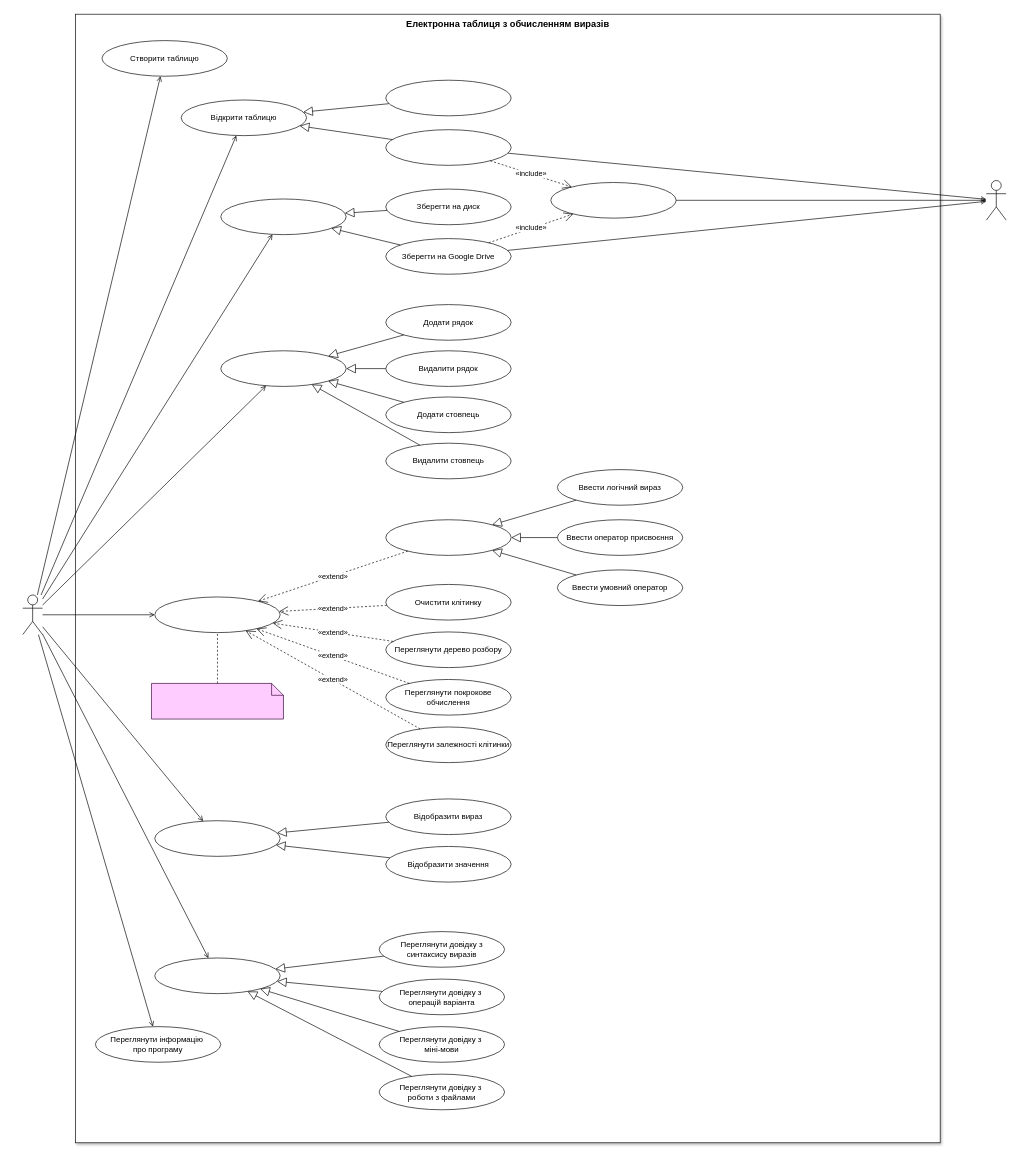
Image size: 1030x1159. Some labels were removed from this diagram. Each missing label, with the centre of its shape:
Google Drive: (x=996, y=200)
Авторизуватися в Google Drive: (x=613, y=200)
Ввести вміст клітинки: (x=448, y=537)
Відкрити з Google Drive: (x=448, y=147)
Відкрити з диска: (x=448, y=98)
Зберегти таблицю: (x=283, y=216)
Змінити розмір таблиці: (x=283, y=368)
Користувач: (x=32, y=614)
Обрати клітинку: (x=217, y=614)
Переглянути довідку: (x=217, y=975)
Передумова: таблиця вже створена або відкрита.: (x=217, y=701)
Перемкнути режим відображення: (x=217, y=838)
